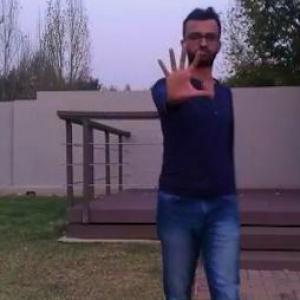follow_hand: (154, 36, 215, 102)
